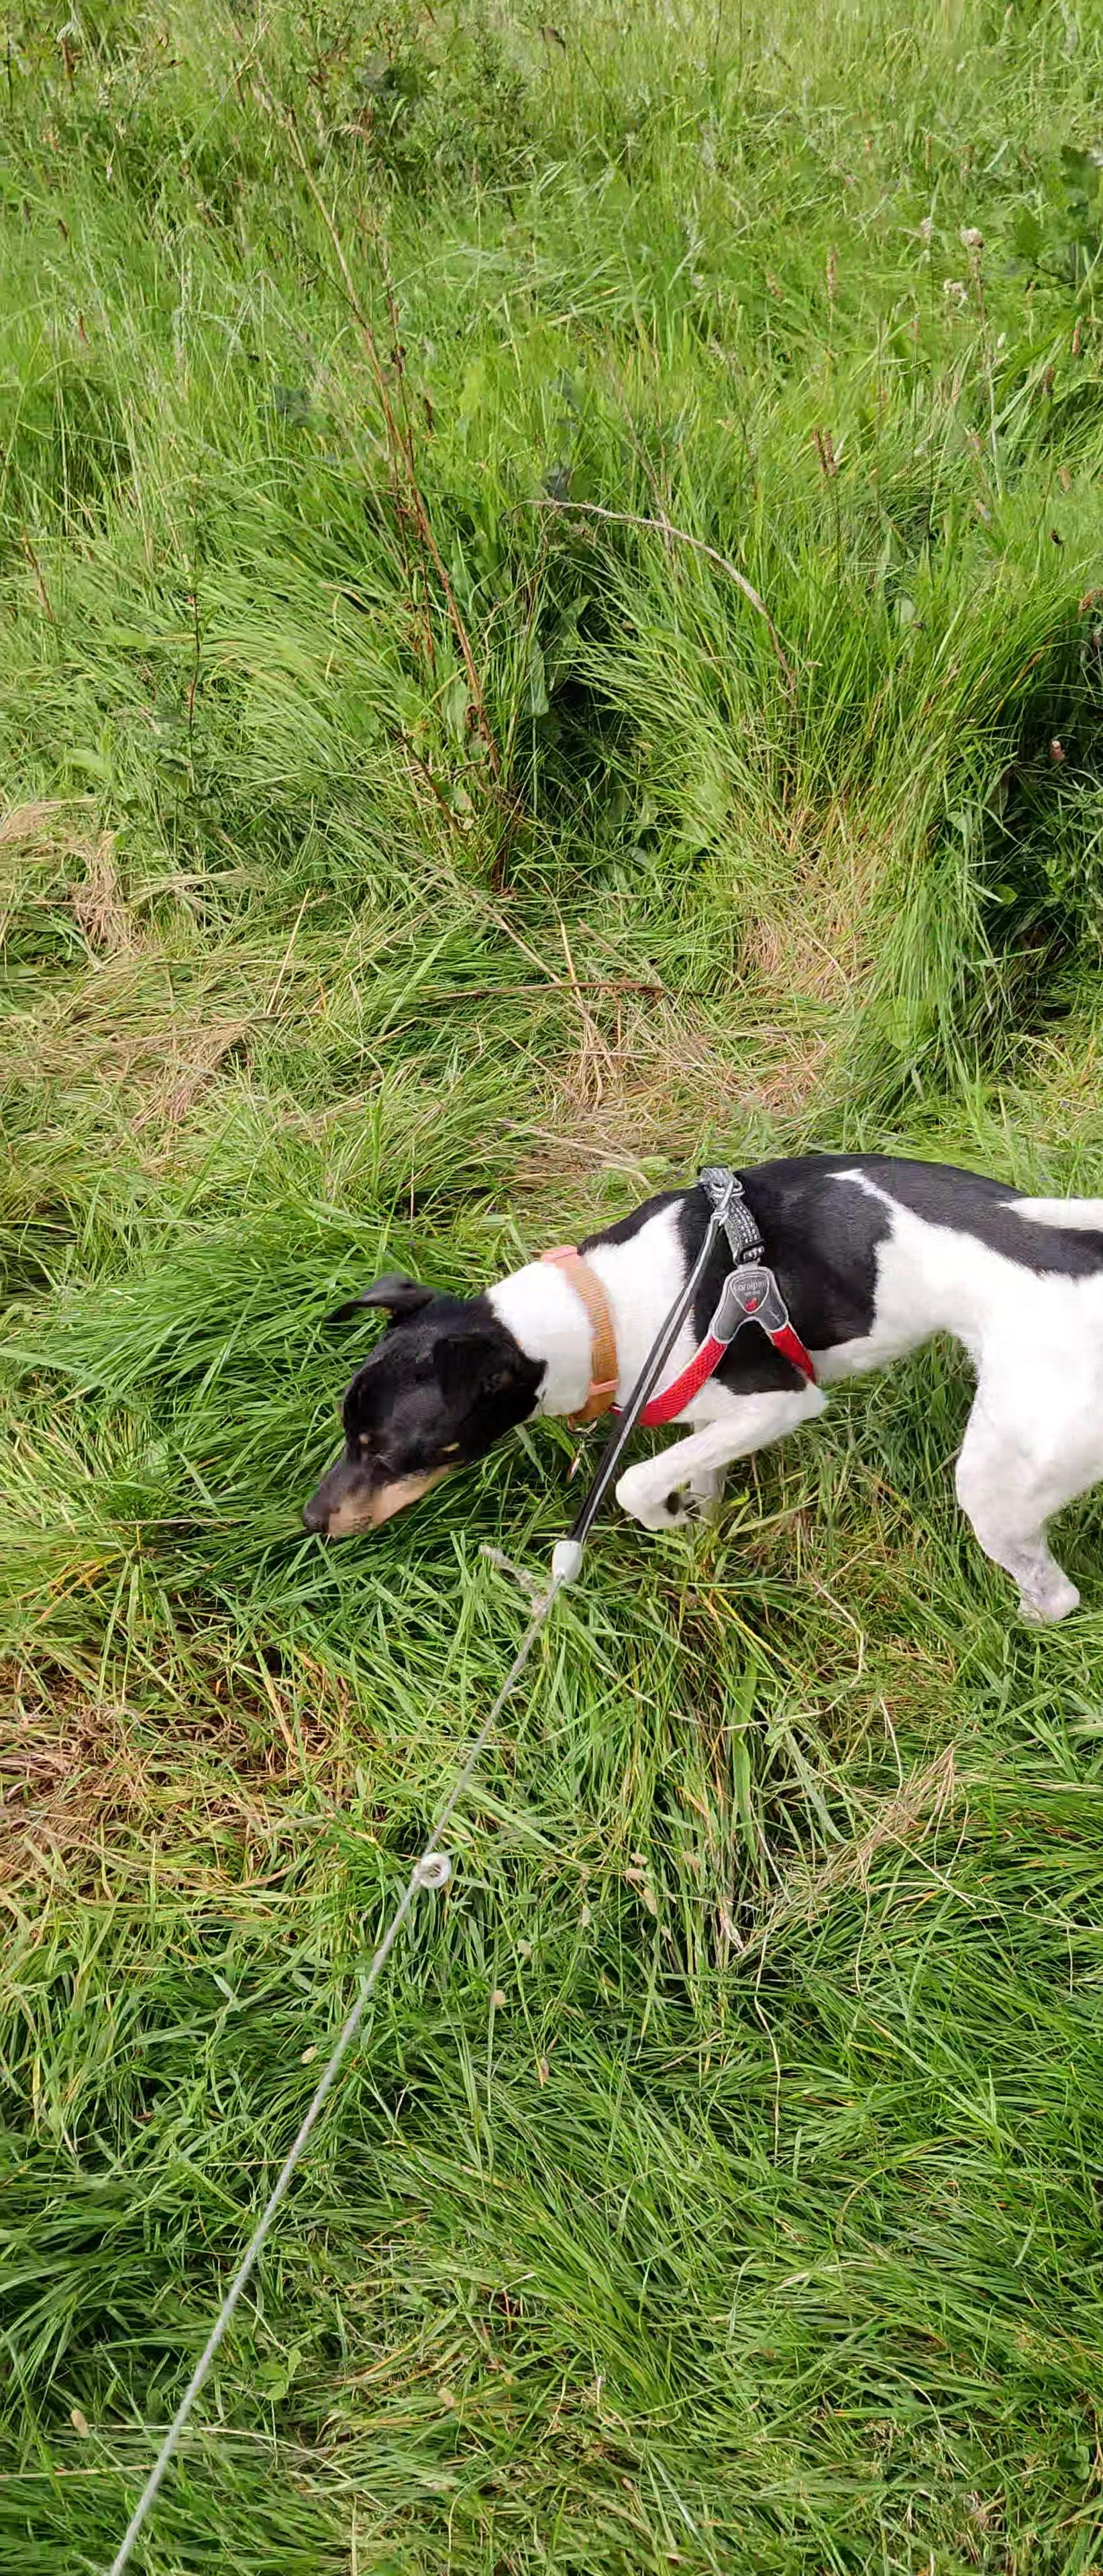Dog: (293, 1142, 1103, 1631)
